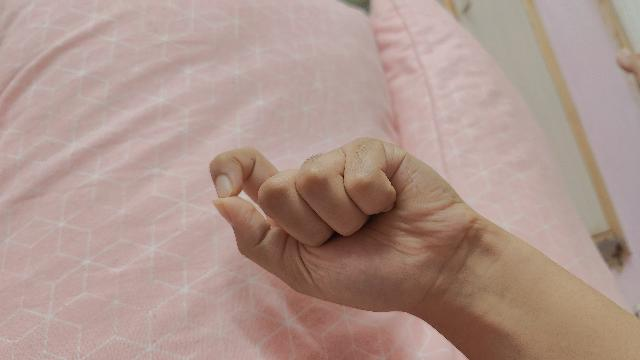kapitth: (207, 138, 640, 360)
